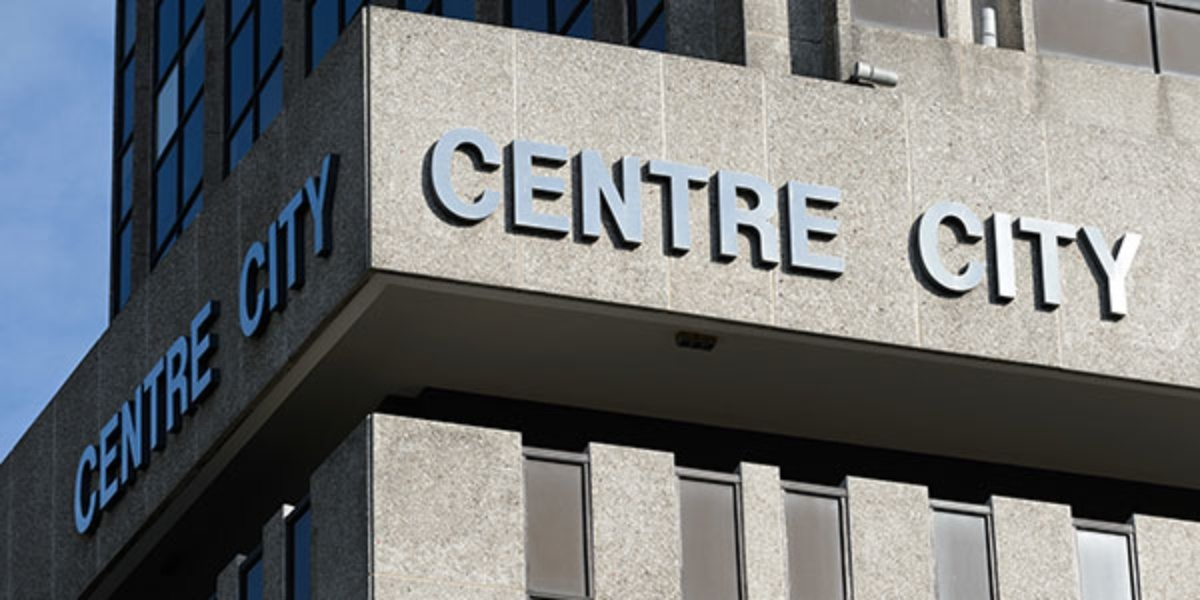text: (81, 287, 96, 541), (97, 287, 112, 541), (113, 287, 128, 541), (129, 287, 144, 541), (145, 287, 160, 541), (161, 287, 176, 541), (177, 287, 192, 541), (193, 287, 208, 541), (241, 151, 256, 345), (257, 151, 272, 345), (273, 151, 288, 345), (289, 151, 304, 345), (305, 151, 320, 345), (69, 287, 80, 541), (433, 125, 448, 281), (449, 125, 464, 281), (465, 125, 480, 281), (481, 125, 496, 281), (497, 125, 512, 281), (513, 125, 528, 281), (529, 125, 544, 281), (545, 125, 560, 281), (561, 125, 576, 281), (577, 125, 592, 281), (593, 125, 608, 281), (609, 125, 624, 281), (625, 125, 640, 281), (641, 125, 656, 281), (657, 125, 672, 281), (673, 125, 688, 281), (689, 125, 704, 281), (705, 125, 720, 281), (721, 125, 736, 281), (737, 125, 752, 281), (753, 125, 768, 281), (769, 125, 784, 281), (785, 125, 800, 281), (801, 125, 816, 281), (817, 125, 832, 281), (321, 151, 331, 345), (913, 193, 928, 321), (929, 193, 944, 321), (945, 193, 960, 321), (961, 193, 976, 321), (977, 193, 992, 321), (993, 193, 1008, 321), (1009, 193, 1024, 321), (1025, 193, 1040, 321), (1041, 193, 1056, 321), (1057, 193, 1072, 321), (1073, 193, 1088, 321), (1089, 193, 1104, 321), (1105, 193, 1120, 321), (1121, 193, 1136, 321), (833, 125, 843, 281), (1137, 193, 1149, 321), (209, 287, 215, 541), (425, 125, 432, 281), (237, 151, 240, 345), (909, 193, 912, 321)
